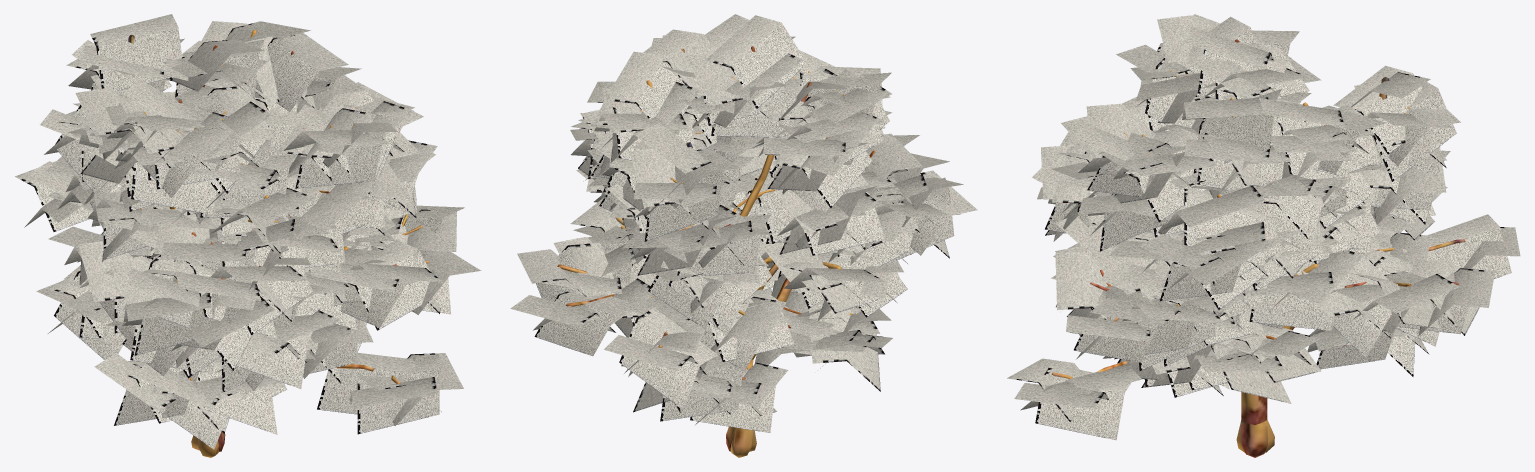
Rendered from Walnut_L.obj.
3 views of the same model, side by side, from view 1: azimuth 30°, elevation 25°; view 2: azimuth 150°, elevation 25°; view 3: azimuth 270°, elevation 25° (orthographic). The views are drawn at different scales.
Parts seen in each view (by area): view 1: Walnut_L; view 2: Walnut_L; view 3: Walnut_L.
Part boxes in pixels (bbox=[...]): Walnut_L: bbox=[15, 14, 481, 457]; Walnut_L: bbox=[510, 14, 977, 457]; Walnut_L: bbox=[1007, 14, 1520, 457].
Bounding box in the file's own units: 12.66 × 14.07 × 15.48.
1 material, 1 textured.
